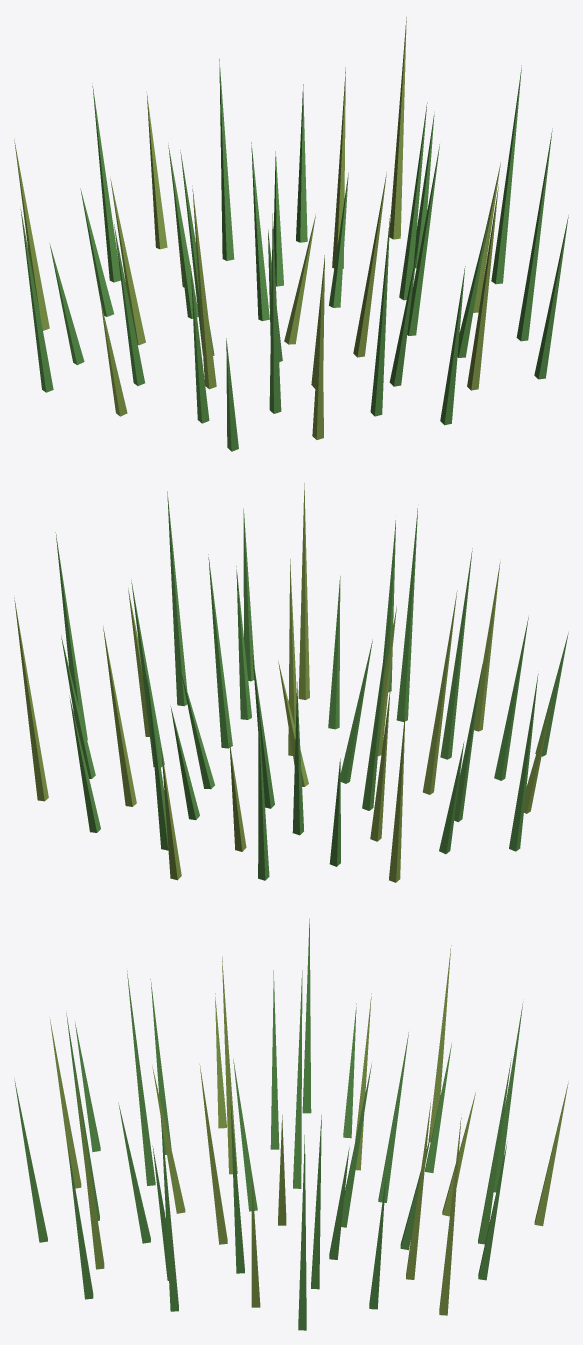
The model's file is tall_grass_patch.glb.
3 views of the same model, one above another, from view 1: azimuth 30°, elevation 25°; view 2: azimuth 150°, elevation 25°; view 3: azimuth 270°, elevation 25° (orthographic). The views are drawn at different scales.
Visible parts, largest first — view 1: tall_grass_patch; view 2: tall_grass_patch; view 3: tall_grass_patch.
Part boxes in pixels (bbox=[...]): tall_grass_patch: bbox=[14, 17, 568, 451]; tall_grass_patch: bbox=[14, 483, 568, 882]; tall_grass_patch: bbox=[14, 918, 568, 1330].
Bounding box in the file's own units: 1.9 × 0.7743 × 1.85.
